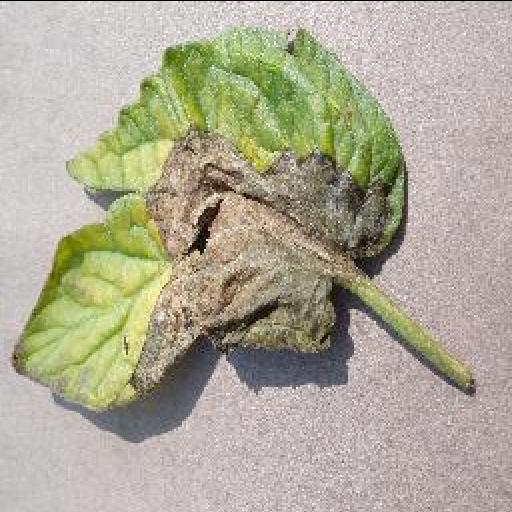disease_tomato: (8, 26, 410, 414)
